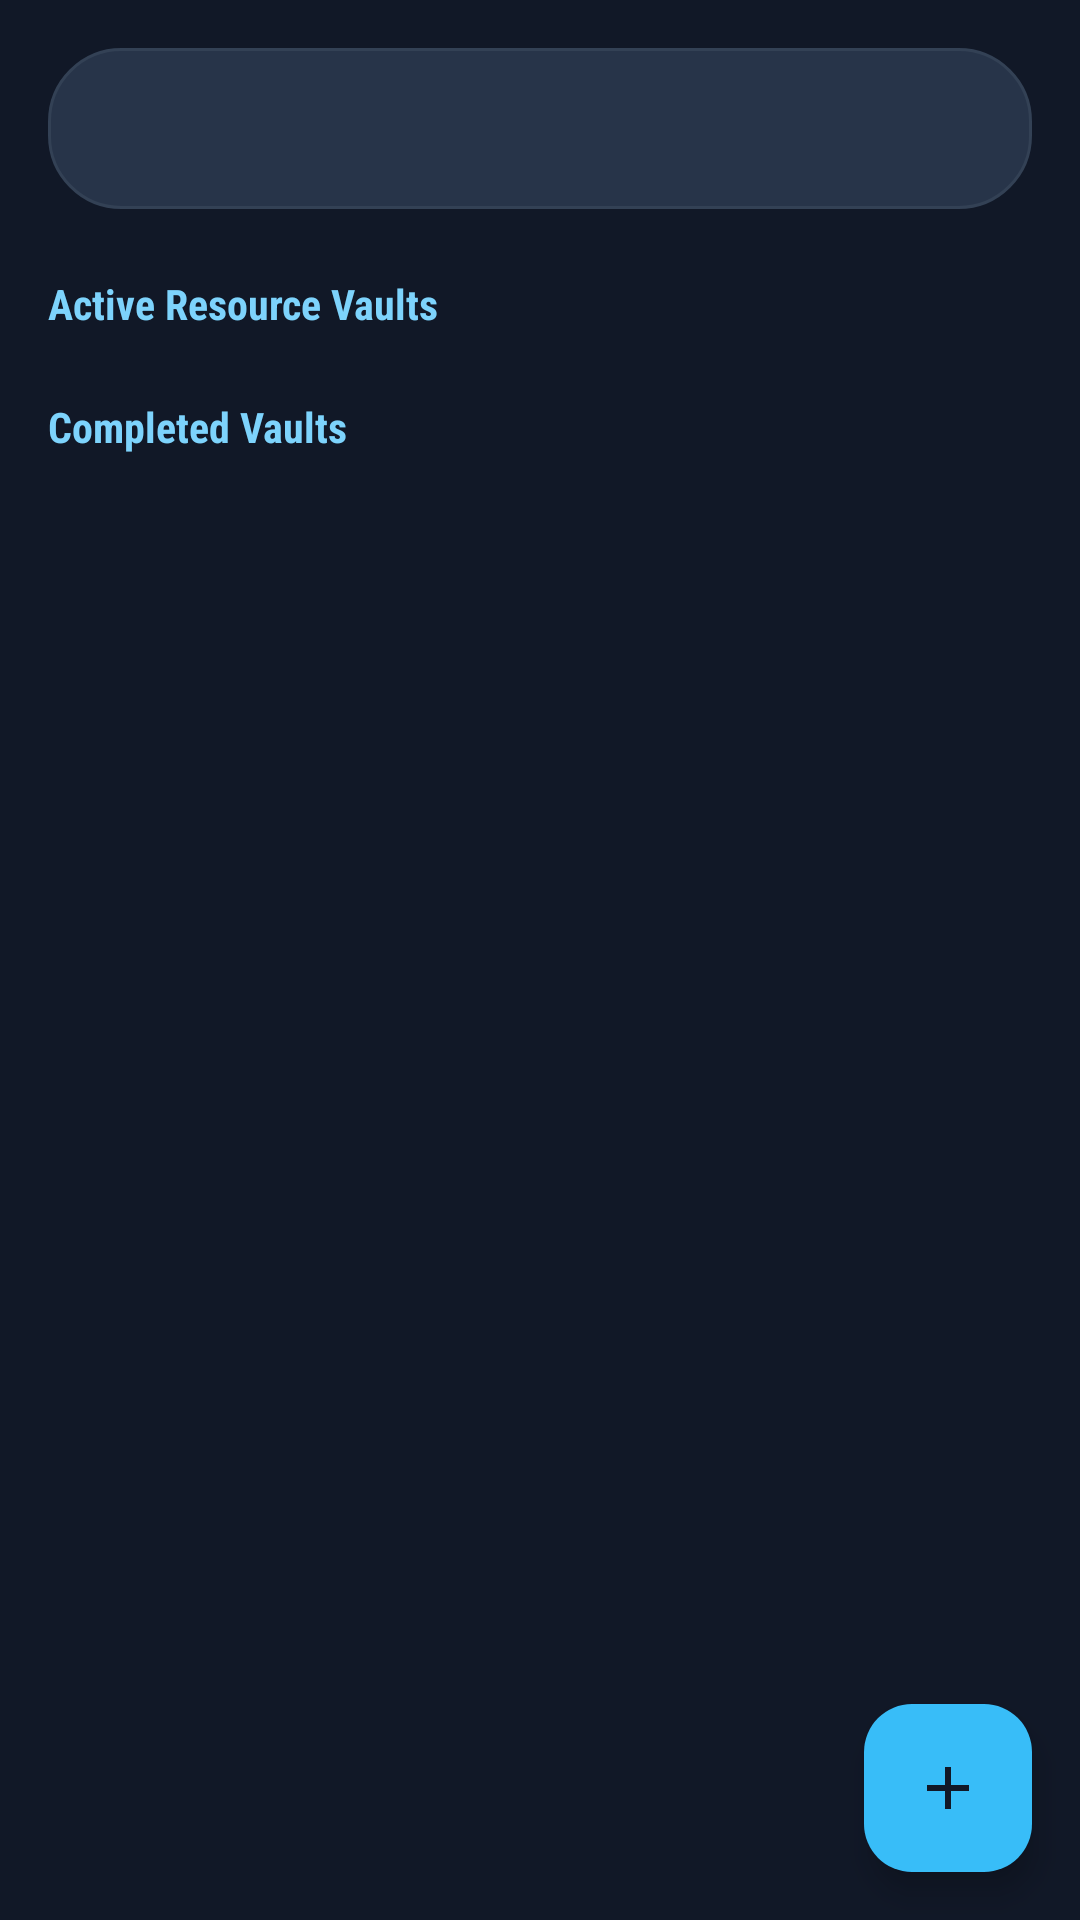

Where icons sit on this 1080x1920 app screen, as (x1, y1, x2, y2):
Add goal: (864, 1704, 1032, 1872)
